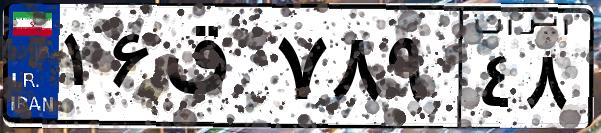1: (57, 26, 110, 100)
4: (475, 38, 525, 113)
6: (110, 28, 158, 98)
7: (270, 28, 330, 110)
8: (330, 28, 385, 110), (525, 38, 570, 115)
9: (385, 28, 445, 110)
ق: (158, 20, 270, 120)
